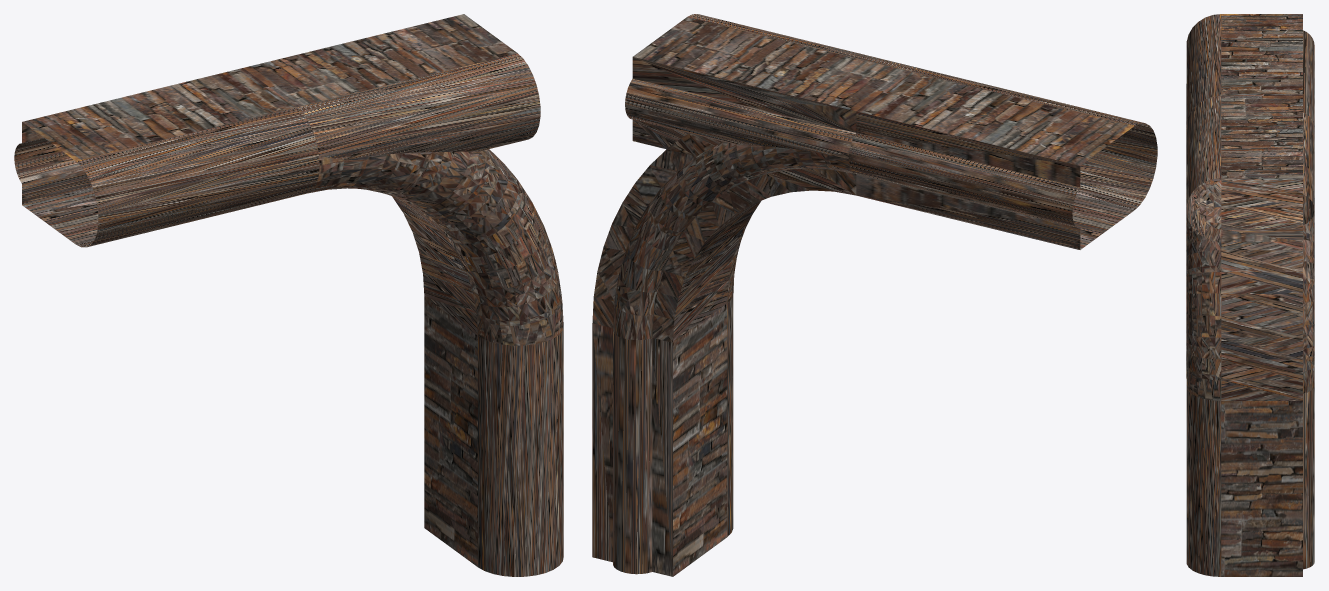
File: T130_Y_5m_5m_dark_brick.dae
3 renders of one model, left to right at view 1: azimuth 30°, elevation 25°; view 2: azimuth 150°, elevation 25°; view 3: azimuth 270°, elevation 25°, orthographic. The views are drawn at different scales.
Visible parts, largest first — view 1: node; view 2: node; view 3: node.
Boxes of the visible parts, x1=… form: node: x1=14, y1=14, x2=563, y2=576; node: x1=592, y1=14, x2=1157, y2=576; node: x1=1186, y1=14, x2=1314, y2=576.
Size of the model in its own units: 5.45 by 5.45 by 1.65.
